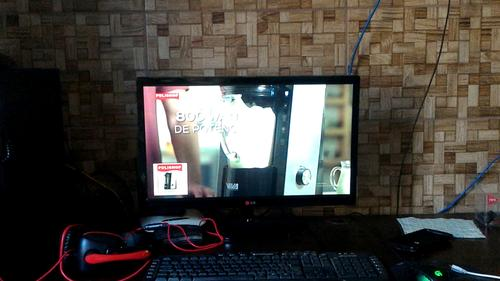Polishop #1: (153, 162, 188, 196)
